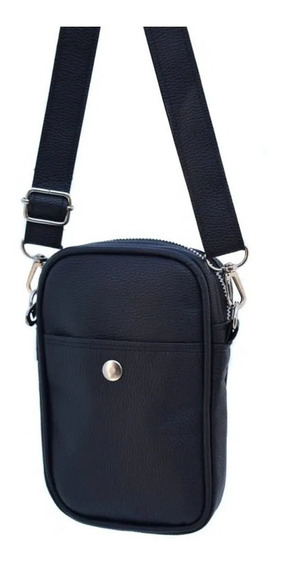cartera: (23, 25, 250, 534)
